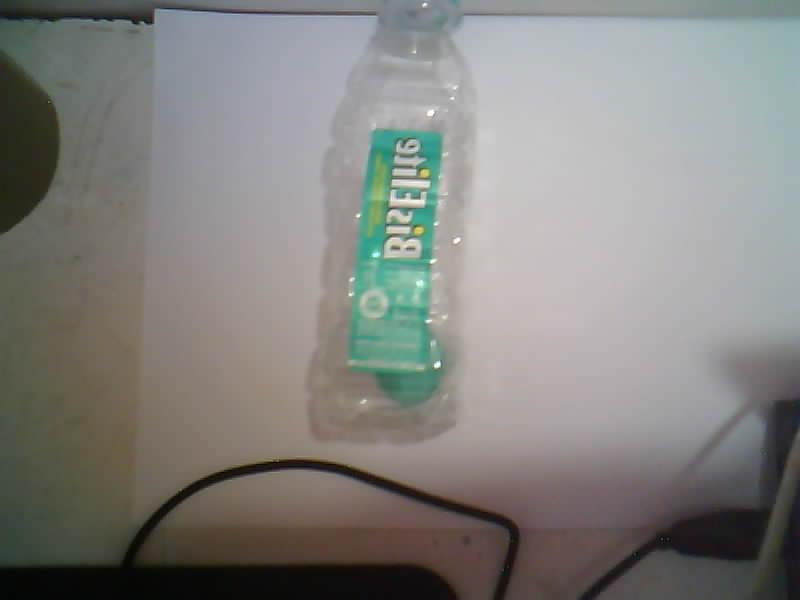non-biodegradable: (314, 0, 473, 440)
